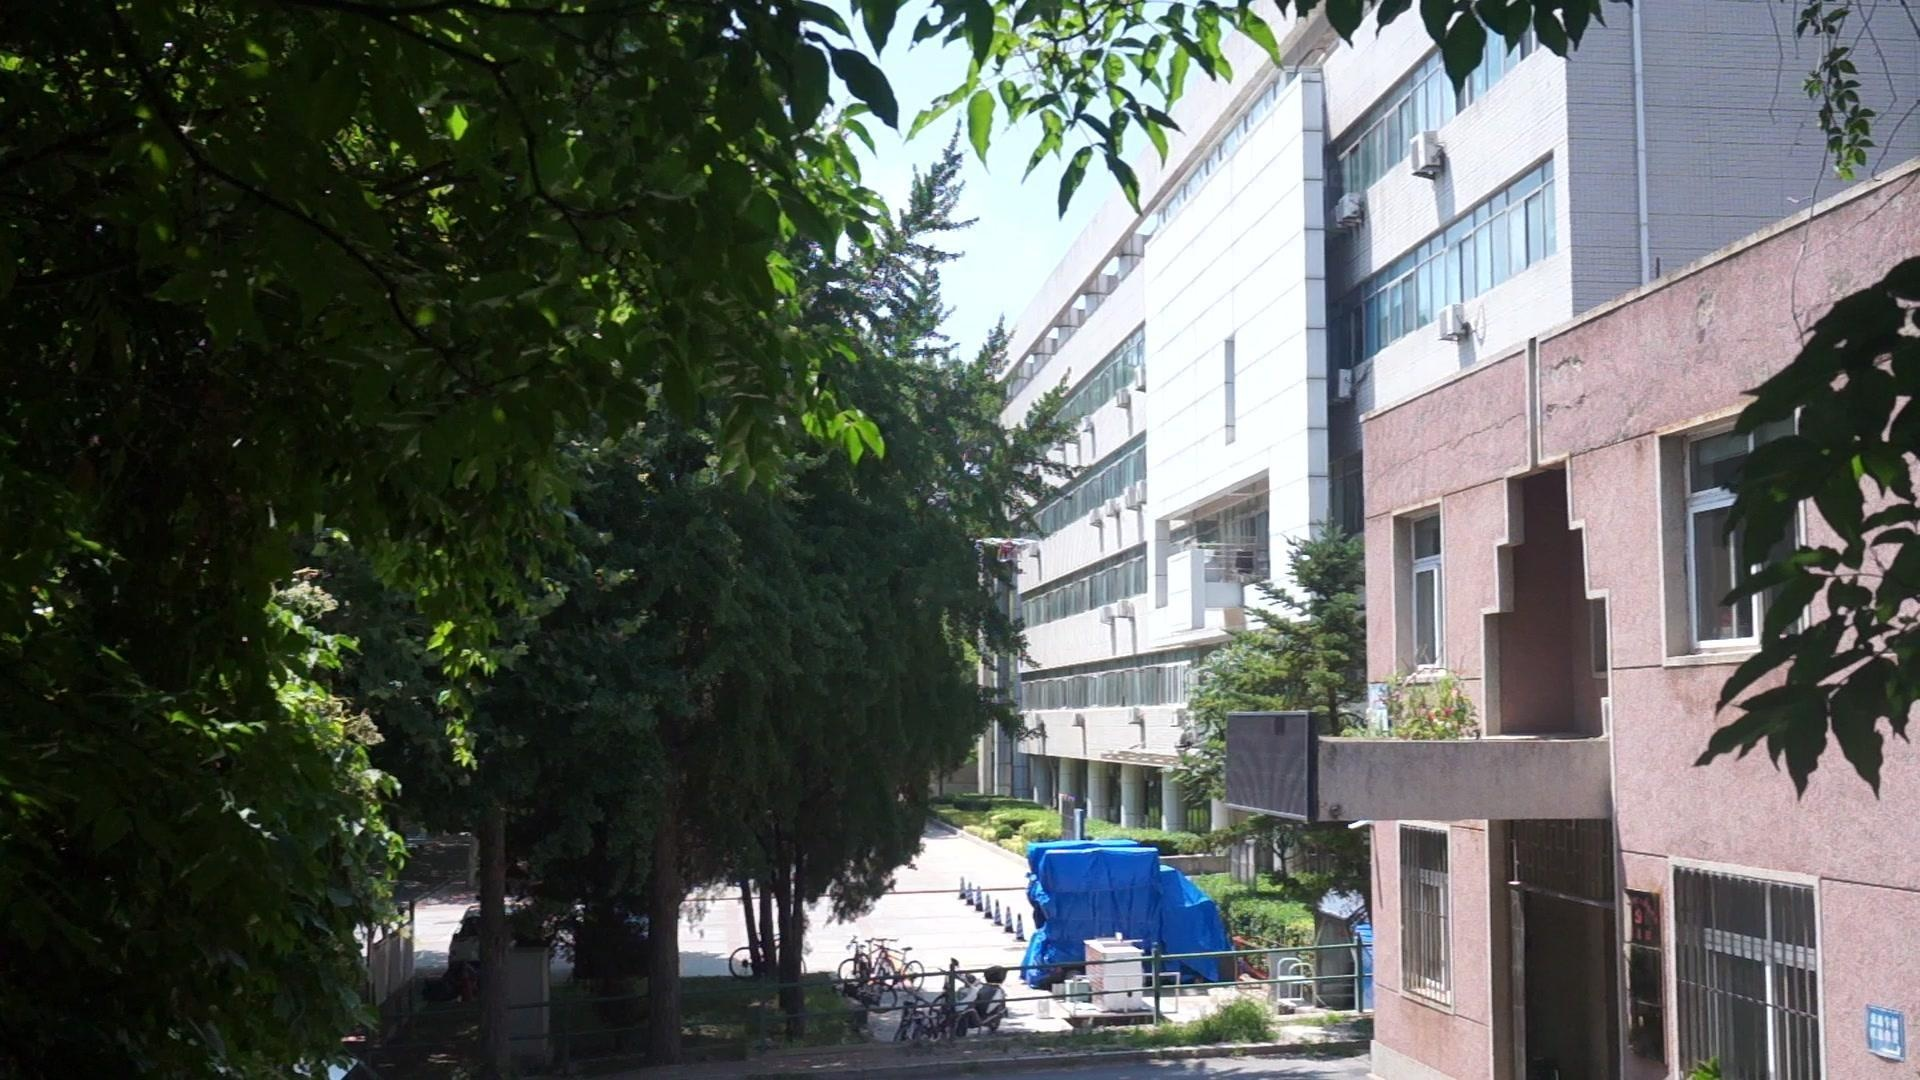UAV: (978, 538, 1040, 563)
